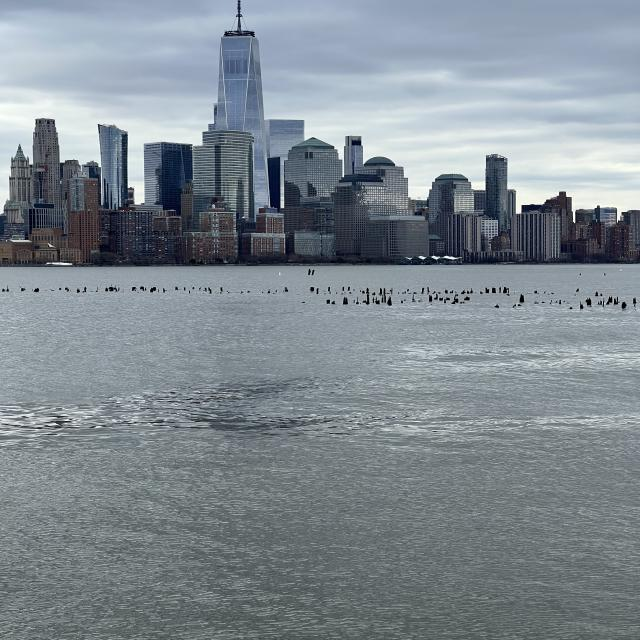WTC: (216, 2, 269, 134)
